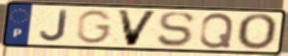G: (76, 9, 115, 45)
J: (38, 8, 70, 43)
O: (236, 13, 280, 52)
Q: (198, 12, 236, 50)
S: (155, 11, 197, 48)
V: (115, 8, 161, 48)
